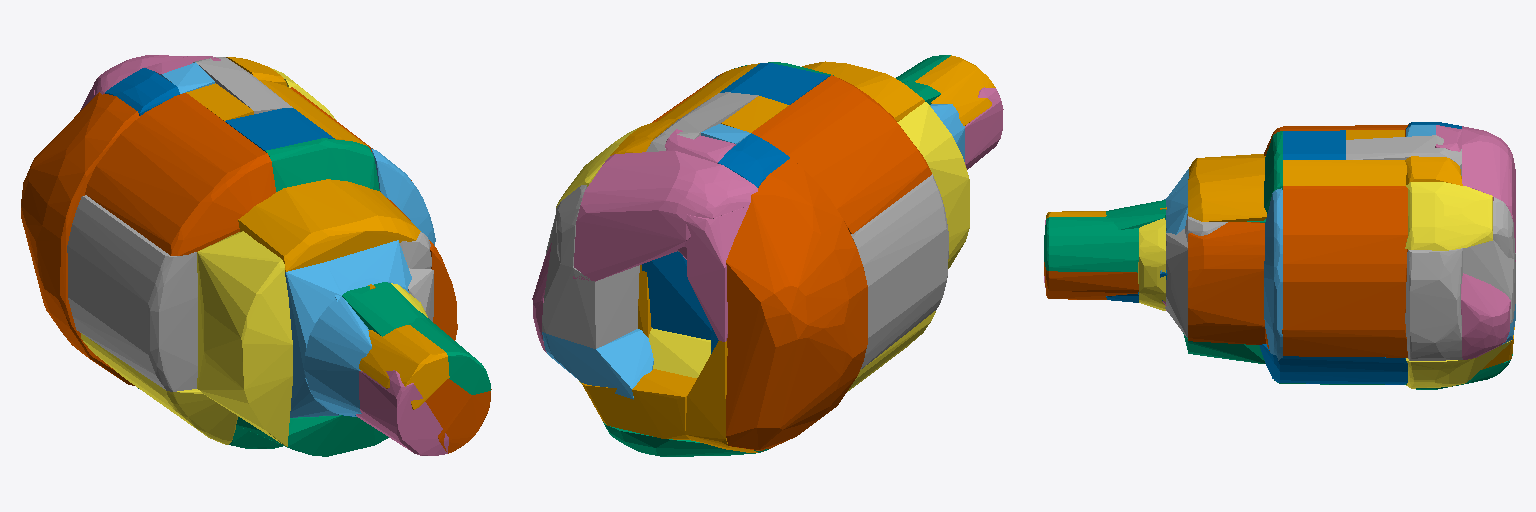
--- Facts derived from the render (not from the file) ---
The picture shows the robot from 3 angles, left to right: view 1: azimuth 30°, elevation 25°; view 2: azimuth 150°, elevation 25°; view 3: azimuth 270°, elevation 25°; orthographic projection.
Model root with 64 links and 63 joints (63 fixed), rooted at link_screw~screw3_convex_piece_0, posed all joints at 0.
Links seen in each view (by area): view 1: link_screw~screw3_convex_piece_61, link_screw~screw3_convex_piece_31, link_screw~screw3_convex_piece_51, link_screw~screw3_convex_piece_45, link_screw~screw3_convex_piece_32, link_screw~screw3_convex_piece_57, link_screw~screw3_convex_piece_54, link_screw~screw3_convex_piece_26, link_screw~screw3_convex_piece_25, link_screw~screw3_convex_piece_48, link_screw~screw3_convex_piece_43, link_screw~screw3_convex_piece_42 (+17 smaller); view 2: link_screw~screw3_convex_piece_45, link_screw~screw3_convex_piece_62, link_screw~screw3_convex_piece_61, link_screw~screw3_convex_piece_31, link_screw~screw3_convex_piece_55, link_screw~screw3_convex_piece_56, link_screw~screw3_convex_piece_51, link_screw~screw3_convex_piece_6, link_screw~screw3_convex_piece_33, link_screw~screw3_convex_piece_60, link_screw~screw3_convex_piece_40, link_screw~screw3_convex_piece_48 (+18 smaller); view 3: link_screw~screw3_convex_piece_21, link_screw~screw3_convex_piece_29, link_screw~screw3_convex_piece_23, link_screw~screw3_convex_piece_19, link_screw~screw3_convex_piece_32, link_screw~screw3_convex_piece_18, link_screw~screw3_convex_piece_28, link_screw~screw3_convex_piece_37, link_screw~screw3_convex_piece_62, link_screw~screw3_convex_piece_22, link_screw~screw3_convex_piece_24, link_screw~screw3_convex_piece_41 (+15 smaller).
Boxes of the visible links, left/top/right/bottom form: link_screw~screw3_convex_piece_61: left=85, top=93, right=275, bottom=255; link_screw~screw3_convex_piece_31: left=67, top=195, right=197, bottom=391; link_screw~screw3_convex_piece_51: left=197, top=231, right=292, bottom=446; link_screw~screw3_convex_piece_45: left=21, top=92, right=139, bottom=385; link_screw~screw3_convex_piece_32: left=238, top=179, right=420, bottom=271; link_screw~screw3_convex_piece_57: left=304, top=296, right=371, bottom=416; link_screw~screw3_convex_piece_54: left=356, top=370, right=448, bottom=455; link_screw~screw3_convex_piece_26: left=265, top=138, right=379, bottom=191; link_screw~screw3_convex_piece_25: left=285, top=262, right=341, bottom=417; link_screw~screw3_convex_piece_48: left=359, top=325, right=449, bottom=409; link_screw~screw3_convex_piece_43: left=81, top=333, right=238, bottom=444; link_screw~screw3_convex_piece_42: left=236, top=415, right=388, bottom=456; link_screw~screw3_convex_piece_45: left=726, top=158, right=867, bottom=451; link_screw~screw3_convex_piece_62: left=573, top=151, right=757, bottom=281; link_screw~screw3_convex_piece_61: left=752, top=75, right=931, bottom=233; link_screw~screw3_convex_piece_31: left=851, top=174, right=948, bottom=369; link_screw~screw3_convex_piece_55: left=542, top=217, right=639, bottom=348; link_screw~screw3_convex_piece_56: left=582, top=369, right=696, bottom=440; link_screw~screw3_convex_piece_51: left=897, top=102, right=969, bottom=268; link_screw~screw3_convex_piece_6: left=686, top=206, right=748, bottom=341; link_screw~screw3_convex_piece_33: left=542, top=329, right=653, bottom=399; link_screw~screw3_convex_piece_60: left=642, top=251, right=711, bottom=339; link_screw~screw3_convex_piece_40: left=685, top=341, right=757, bottom=452; link_screw~screw3_convex_piece_48: left=915, top=55, right=995, bottom=125; link_screw~screw3_convex_piece_21: left=1283, top=186, right=1407, bottom=329; link_screw~screw3_convex_piece_29: left=1188, top=222, right=1265, bottom=344; link_screw~screw3_convex_piece_23: left=1405, top=248, right=1462, bottom=360; link_screw~screw3_convex_piece_19: left=1405, top=182, right=1492, bottom=250; link_screw~screw3_convex_piece_32: left=1188, top=154, right=1266, bottom=221; link_screw~screw3_convex_piece_18: left=1044, top=217, right=1138, bottom=272; link_screw~screw3_convex_piece_28: left=1259, top=344, right=1407, bottom=384; link_screw~screw3_convex_piece_37: left=1265, top=324, right=1407, bottom=357; link_screw~screw3_convex_piece_62: left=1462, top=126, right=1515, bottom=261; link_screw~screw3_convex_piece_22: left=1461, top=273, right=1510, bottom=359; link_screw~screw3_convex_piece_24: left=1283, top=160, right=1406, bottom=185; link_screw~screw3_convex_piece_41: left=1264, top=188, right=1282, bottom=360.
Bounding box of the posed robot: 0.0341 × 0.0612 × 0.0346 m (x, y, z).
Meshes: 64 distinct files referenced, 64 mesh visuals loaded (64 OBJ).

The robot description file, URDF, robot "root":
<robot name="root">
  <link name="link_screw~screw3_convex_piece_0">
    <inertial>
      <origin xyz="0 0 0" rpy="0 0 0"/>
      <mass value="4.80E-04"/>
      <inertia ixx="9.96E-08" ixy="2.38E-09" ixz="8.96E-09" iyy="9.26E-08" iyz="-2.38E-08" izz="9.88E-09"/>
    </inertial>
    <visual>
      <origin xyz="0 0 0" rpy="0 0 0"/>
      <geometry>
        <mesh filename="screw~screw3_convex_piece_0.obj" scale="1.0000E+00 1.0000E+00 1.0000E+00"/>
      </geometry>
      <material name=""/>
    </visual>
    <collision>
      <origin xyz="0 0 0" rpy="0 0 0"/>
      <geometry>
        <mesh filename="screw~screw3_convex_piece_0.obj" scale="1.0000E+00 1.0000E+00 1.0000E+00"/>
      </geometry>
    </collision>
  </link>
  <link name="link_screw~screw3_convex_piece_1">
    <inertial>
      <origin xyz="0 0 0" rpy="0 0 0"/>
      <mass value="1.46E-03"/>
      <inertia ixx="6.79E-08" ixy="-4.08E-08" ixz="-9.70E-09" iyy="1.22E-07" iyz="-4.87E-09" izz="1.10E-07"/>
    </inertial>
    <visual>
      <origin xyz="0 0 0" rpy="0 0 0"/>
      <geometry>
        <mesh filename="screw~screw3_convex_piece_1.obj" scale="1.0000E+00 1.0000E+00 1.0000E+00"/>
      </geometry>
      <material name=""/>
    </visual>
    <collision>
      <origin xyz="0 0 0" rpy="0 0 0"/>
      <geometry>
        <mesh filename="screw~screw3_convex_piece_1.obj" scale="1.0000E+00 1.0000E+00 1.0000E+00"/>
      </geometry>
    </collision>
  </link>
  <joint name="link_screw~screw3_convex_piece_1_joint" type="fixed">
    <origin xyz="0 0 0" rpy="0 0 0"/>
    <parent link="link_screw~screw3_convex_piece_0"/>
    <child link="link_screw~screw3_convex_piece_1"/>
  </joint>
  <link name="link_screw~screw3_convex_piece_2">
    <inertial>
      <origin xyz="0 0 0" rpy="0 0 0"/>
      <mass value="2.32E-03"/>
      <inertia ixx="2.41E-07" ixy="1.24E-07" ixz="-7.33E-08" iyy="1.83E-07" iyz="7.82E-08" izz="3.02E-07"/>
    </inertial>
    <visual>
      <origin xyz="0 0 0" rpy="0 0 0"/>
      <geometry>
        <mesh filename="screw~screw3_convex_piece_2.obj" scale="1.0000E+00 1.0000E+00 1.0000E+00"/>
      </geometry>
      <material name=""/>
    </visual>
    <collision>
      <origin xyz="0 0 0" rpy="0 0 0"/>
      <geometry>
        <mesh filename="screw~screw3_convex_piece_2.obj" scale="1.0000E+00 1.0000E+00 1.0000E+00"/>
      </geometry>
    </collision>
  </link>
  <joint name="link_screw~screw3_convex_piece_2_joint" type="fixed">
    <origin xyz="0 0 0" rpy="0 0 0"/>
    <parent link="link_screw~screw3_convex_piece_1"/>
    <child link="link_screw~screw3_convex_piece_2"/>
  </joint>
  <link name="link_screw~screw3_convex_piece_3">
    <inertial>
      <origin xyz="0 0 0" rpy="0 0 0"/>
      <mass value="2.25E-03"/>
      <inertia ixx="9.09E-08" ixy="-6.30E-09" ixz="3.91E-09" iyy="2.51E-07" iyz="6.45E-10" izz="2.57E-07"/>
    </inertial>
    <visual>
      <origin xyz="0 0 0" rpy="0 0 0"/>
      <geometry>
        <mesh filename="screw~screw3_convex_piece_3.obj" scale="1.0000E+00 1.0000E+00 1.0000E+00"/>
      </geometry>
      <material name=""/>
    </visual>
    <collision>
      <origin xyz="0 0 0" rpy="0 0 0"/>
      <geometry>
        <mesh filename="screw~screw3_convex_piece_3.obj" scale="1.0000E+00 1.0000E+00 1.0000E+00"/>
      </geometry>
    </collision>
  </link>
  <joint name="link_screw~screw3_convex_piece_3_joint" type="fixed">
    <origin xyz="0 0 0" rpy="0 0 0"/>
    <parent link="link_screw~screw3_convex_piece_2"/>
    <child link="link_screw~screw3_convex_piece_3"/>
  </joint>
  <link name="link_screw~screw3_convex_piece_4">
    <inertial>
      <origin xyz="0 0 0" rpy="0 0 0"/>
      <mass value="1.32E-03"/>
      <inertia ixx="2.61E-07" ixy="5.47E-09" ixz="-1.68E-08" iyy="2.40E-07" iyz="7.14E-08" izz="3.89E-08"/>
    </inertial>
    <visual>
      <origin xyz="0 0 0" rpy="0 0 0"/>
      <geometry>
        <mesh filename="screw~screw3_convex_piece_4.obj" scale="1.0000E+00 1.0000E+00 1.0000E+00"/>
      </geometry>
      <material name=""/>
    </visual>
    <collision>
      <origin xyz="0 0 0" rpy="0 0 0"/>
      <geometry>
        <mesh filename="screw~screw3_convex_piece_4.obj" scale="1.0000E+00 1.0000E+00 1.0000E+00"/>
      </geometry>
    </collision>
  </link>
  <joint name="link_screw~screw3_convex_piece_4_joint" type="fixed">
    <origin xyz="0 0 0" rpy="0 0 0"/>
    <parent link="link_screw~screw3_convex_piece_3"/>
    <child link="link_screw~screw3_convex_piece_4"/>
  </joint>
  <link name="link_screw~screw3_convex_piece_5">
    <inertial>
      <origin xyz="0 0 0" rpy="0 0 0"/>
      <mass value="1.28E-03"/>
      <inertia ixx="1.69E-07" ixy="2.48E-08" ixz="-2.32E-08" iyy="7.94E-08" iyz="7.00E-08" izz="1.11E-07"/>
    </inertial>
    <visual>
      <origin xyz="0 0 0" rpy="0 0 0"/>
      <geometry>
        <mesh filename="screw~screw3_convex_piece_5.obj" scale="1.0000E+00 1.0000E+00 1.0000E+00"/>
      </geometry>
      <material name=""/>
    </visual>
    <collision>
      <origin xyz="0 0 0" rpy="0 0 0"/>
      <geometry>
        <mesh filename="screw~screw3_convex_piece_5.obj" scale="1.0000E+00 1.0000E+00 1.0000E+00"/>
      </geometry>
    </collision>
  </link>
  <joint name="link_screw~screw3_convex_piece_5_joint" type="fixed">
    <origin xyz="0 0 0" rpy="0 0 0"/>
    <parent link="link_screw~screw3_convex_piece_4"/>
    <child link="link_screw~screw3_convex_piece_5"/>
  </joint>
  <link name="link_screw~screw3_convex_piece_6">
    <inertial>
      <origin xyz="0 0 0" rpy="0 0 0"/>
      <mass value="9.29E-04"/>
      <inertia ixx="3.83E-07" ixy="1.06E-07" ixz="4.30E-08" iyy="1.02E-07" iyz="-1.31E-07" izz="3.55E-07"/>
    </inertial>
    <visual>
      <origin xyz="0 0 0" rpy="0 0 0"/>
      <geometry>
        <mesh filename="screw~screw3_convex_piece_6.obj" scale="1.0000E+00 1.0000E+00 1.0000E+00"/>
      </geometry>
      <material name=""/>
    </visual>
    <collision>
      <origin xyz="0 0 0" rpy="0 0 0"/>
      <geometry>
        <mesh filename="screw~screw3_convex_piece_6.obj" scale="1.0000E+00 1.0000E+00 1.0000E+00"/>
      </geometry>
    </collision>
  </link>
  <joint name="link_screw~screw3_convex_piece_6_joint" type="fixed">
    <origin xyz="0 0 0" rpy="0 0 0"/>
    <parent link="link_screw~screw3_convex_piece_5"/>
    <child link="link_screw~screw3_convex_piece_6"/>
  </joint>
  <link name="link_screw~screw3_convex_piece_7">
    <inertial>
      <origin xyz="0 0 0" rpy="0 0 0"/>
      <mass value="6.60E-04"/>
      <inertia ixx="4.32E-08" ixy="6.38E-09" ixz="-4.72E-09" iyy="1.26E-08" iyz="9.67E-09" izz="3.71E-08"/>
    </inertial>
    <visual>
      <origin xyz="0 0 0" rpy="0 0 0"/>
      <geometry>
        <mesh filename="screw~screw3_convex_piece_7.obj" scale="1.0000E+00 1.0000E+00 1.0000E+00"/>
      </geometry>
      <material name=""/>
    </visual>
    <collision>
      <origin xyz="0 0 0" rpy="0 0 0"/>
      <geometry>
        <mesh filename="screw~screw3_convex_piece_7.obj" scale="1.0000E+00 1.0000E+00 1.0000E+00"/>
      </geometry>
    </collision>
  </link>
  <joint name="link_screw~screw3_convex_piece_7_joint" type="fixed">
    <origin xyz="0 0 0" rpy="0 0 0"/>
    <parent link="link_screw~screw3_convex_piece_6"/>
    <child link="link_screw~screw3_convex_piece_7"/>
  </joint>
  <link name="link_screw~screw3_convex_piece_8">
    <inertial>
      <origin xyz="0 0 0" rpy="0 0 0"/>
      <mass value="1.54E-03"/>
      <inertia ixx="2.80E-07" ixy="-2.35E-08" ixz="8.76E-09" iyy="3.37E-08" iyz="6.23E-08" izz="2.57E-07"/>
    </inertial>
    <visual>
      <origin xyz="0 0 0" rpy="0 0 0"/>
      <geometry>
        <mesh filename="screw~screw3_convex_piece_8.obj" scale="1.0000E+00 1.0000E+00 1.0000E+00"/>
      </geometry>
      <material name=""/>
    </visual>
    <collision>
      <origin xyz="0 0 0" rpy="0 0 0"/>
      <geometry>
        <mesh filename="screw~screw3_convex_piece_8.obj" scale="1.0000E+00 1.0000E+00 1.0000E+00"/>
      </geometry>
    </collision>
  </link>
  <joint name="link_screw~screw3_convex_piece_8_joint" type="fixed">
    <origin xyz="0 0 0" rpy="0 0 0"/>
    <parent link="link_screw~screw3_convex_piece_7"/>
    <child link="link_screw~screw3_convex_piece_8"/>
  </joint>
  <link name="link_screw~screw3_convex_piece_9">
    <inertial>
      <origin xyz="0 0 0" rpy="0 0 0"/>
      <mass value="2.65E-03"/>
      <inertia ixx="3.70E-07" ixy="1.79E-07" ixz="6.34E-08" iyy="1.86E-07" iyz="-8.54E-08" izz="4.64E-07"/>
    </inertial>
    <visual>
      <origin xyz="0 0 0" rpy="0 0 0"/>
      <geometry>
        <mesh filename="screw~screw3_convex_piece_9.obj" scale="1.0000E+00 1.0000E+00 1.0000E+00"/>
      </geometry>
      <material name=""/>
    </visual>
    <collision>
      <origin xyz="0 0 0" rpy="0 0 0"/>
      <geometry>
        <mesh filename="screw~screw3_convex_piece_9.obj" scale="1.0000E+00 1.0000E+00 1.0000E+00"/>
      </geometry>
    </collision>
  </link>
  <joint name="link_screw~screw3_convex_piece_9_joint" type="fixed">
    <origin xyz="0 0 0" rpy="0 0 0"/>
    <parent link="link_screw~screw3_convex_piece_8"/>
    <child link="link_screw~screw3_convex_piece_9"/>
  </joint>
  <link name="link_screw~screw3_convex_piece_10">
    <inertial>
      <origin xyz="0 0 0" rpy="0 0 0"/>
      <mass value="1.97E-03"/>
      <inertia ixx="5.12E-07" ixy="-1.03E-08" ixz="1.30E-08" iyy="2.84E-07" iyz="2.49E-07" izz="3.28E-07"/>
    </inertial>
    <visual>
      <origin xyz="0 0 0" rpy="0 0 0"/>
      <geometry>
        <mesh filename="screw~screw3_convex_piece_10.obj" scale="1.0000E+00 1.0000E+00 1.0000E+00"/>
      </geometry>
      <material name=""/>
    </visual>
    <collision>
      <origin xyz="0 0 0" rpy="0 0 0"/>
      <geometry>
        <mesh filename="screw~screw3_convex_piece_10.obj" scale="1.0000E+00 1.0000E+00 1.0000E+00"/>
      </geometry>
    </collision>
  </link>
  <joint name="link_screw~screw3_convex_piece_10_joint" type="fixed">
    <origin xyz="0 0 0" rpy="0 0 0"/>
    <parent link="link_screw~screw3_convex_piece_9"/>
    <child link="link_screw~screw3_convex_piece_10"/>
  </joint>
  <link name="link_screw~screw3_convex_piece_11">
    <inertial>
      <origin xyz="0 0 0" rpy="0 0 0"/>
      <mass value="3.14E-03"/>
      <inertia ixx="3.65E-07" ixy="-4.70E-08" ixz="8.01E-08" iyy="2.36E-07" iyz="9.63E-08" izz="2.45E-07"/>
    </inertial>
    <visual>
      <origin xyz="0 0 0" rpy="0 0 0"/>
      <geometry>
        <mesh filename="screw~screw3_convex_piece_11.obj" scale="1.0000E+00 1.0000E+00 1.0000E+00"/>
      </geometry>
      <material name=""/>
    </visual>
    <collision>
      <origin xyz="0 0 0" rpy="0 0 0"/>
      <geometry>
        <mesh filename="screw~screw3_convex_piece_11.obj" scale="1.0000E+00 1.0000E+00 1.0000E+00"/>
      </geometry>
    </collision>
  </link>
  <joint name="link_screw~screw3_convex_piece_11_joint" type="fixed">
    <origin xyz="0 0 0" rpy="0 0 0"/>
    <parent link="link_screw~screw3_convex_piece_10"/>
    <child link="link_screw~screw3_convex_piece_11"/>
  </joint>
  <link name="link_screw~screw3_convex_piece_12">
    <inertial>
      <origin xyz="0 0 0" rpy="0 0 0"/>
      <mass value="5.05E-03"/>
      <inertia ixx="3.67E-07" ixy="-1.09E-07" ixz="-2.01E-08" iyy="2.59E-07" iyz="-1.56E-08" izz="4.71E-07"/>
    </inertial>
    <visual>
      <origin xyz="0 0 0" rpy="0 0 0"/>
      <geometry>
        <mesh filename="screw~screw3_convex_piece_12.obj" scale="1.0000E+00 1.0000E+00 1.0000E+00"/>
      </geometry>
      <material name=""/>
    </visual>
    <collision>
      <origin xyz="0 0 0" rpy="0 0 0"/>
      <geometry>
        <mesh filename="screw~screw3_convex_piece_12.obj" scale="1.0000E+00 1.0000E+00 1.0000E+00"/>
      </geometry>
    </collision>
  </link>
  <joint name="link_screw~screw3_convex_piece_12_joint" type="fixed">
    <origin xyz="0 0 0" rpy="0 0 0"/>
    <parent link="link_screw~screw3_convex_piece_11"/>
    <child link="link_screw~screw3_convex_piece_12"/>
  </joint>
  <link name="link_screw~screw3_convex_piece_13">
    <inertial>
      <origin xyz="0 0 0" rpy="0 0 0"/>
      <mass value="2.34E-03"/>
      <inertia ixx="2.57E-07" ixy="2.54E-10" ixz="7.47E-10" iyy="2.53E-07" iyz="-6.85E-09" izz="9.65E-08"/>
    </inertial>
    <visual>
      <origin xyz="0 0 0" rpy="0 0 0"/>
      <geometry>
        <mesh filename="screw~screw3_convex_piece_13.obj" scale="1.0000E+00 1.0000E+00 1.0000E+00"/>
      </geometry>
      <material name=""/>
    </visual>
    <collision>
      <origin xyz="0 0 0" rpy="0 0 0"/>
      <geometry>
        <mesh filename="screw~screw3_convex_piece_13.obj" scale="1.0000E+00 1.0000E+00 1.0000E+00"/>
      </geometry>
    </collision>
  </link>
  <joint name="link_screw~screw3_convex_piece_13_joint" type="fixed">
    <origin xyz="0 0 0" rpy="0 0 0"/>
    <parent link="link_screw~screw3_convex_piece_12"/>
    <child link="link_screw~screw3_convex_piece_13"/>
  </joint>
  <link name="link_screw~screw3_convex_piece_14">
    <inertial>
      <origin xyz="0 0 0" rpy="0 0 0"/>
      <mass value="2.22E-03"/>
      <inertia ixx="3.66E-07" ixy="5.08E-08" ixz="4.03E-08" iyy="9.96E-08" iyz="-8.82E-08" izz="3.24E-07"/>
    </inertial>
    <visual>
      <origin xyz="0 0 0" rpy="0 0 0"/>
      <geometry>
        <mesh filename="screw~screw3_convex_piece_14.obj" scale="1.0000E+00 1.0000E+00 1.0000E+00"/>
      </geometry>
      <material name=""/>
    </visual>
    <collision>
      <origin xyz="0 0 0" rpy="0 0 0"/>
      <geometry>
        <mesh filename="screw~screw3_convex_piece_14.obj" scale="1.0000E+00 1.0000E+00 1.0000E+00"/>
      </geometry>
    </collision>
  </link>
  <joint name="link_screw~screw3_convex_piece_14_joint" type="fixed">
    <origin xyz="0 0 0" rpy="0 0 0"/>
    <parent link="link_screw~screw3_convex_piece_13"/>
    <child link="link_screw~screw3_convex_piece_14"/>
  </joint>
  <link name="link_screw~screw3_convex_piece_15">
    <inertial>
      <origin xyz="0 0 0" rpy="0 0 0"/>
      <mass value="1.20E-04"/>
      <inertia ixx="5.70E-08" ixy="-2.56E-08" ixz="-9.71E-09" iyy="2.10E-08" iyz="-1.87E-08" izz="6.28E-08"/>
    </inertial>
    <visual>
      <origin xyz="0 0 0" rpy="0 0 0"/>
      <geometry>
        <mesh filename="screw~screw3_convex_piece_15.obj" scale="1.0000E+00 1.0000E+00 1.0000E+00"/>
      </geometry>
      <material name=""/>
    </visual>
    <collision>
      <origin xyz="0 0 0" rpy="0 0 0"/>
      <geometry>
        <mesh filename="screw~screw3_convex_piece_15.obj" scale="1.0000E+00 1.0000E+00 1.0000E+00"/>
      </geometry>
    </collision>
  </link>
  <joint name="link_screw~screw3_convex_piece_15_joint" type="fixed">
    <origin xyz="0 0 0" rpy="0 0 0"/>
    <parent link="link_screw~screw3_convex_piece_14"/>
    <child link="link_screw~screw3_convex_piece_15"/>
  </joint>
  <link name="link_screw~screw3_convex_piece_16">
    <inertial>
      <origin xyz="0 0 0" rpy="0 0 0"/>
      <mass value="2.30E-03"/>
      <inertia ixx="4.57E-07" ixy="-1.84E-07" ixz="-5.27E-08" iyy="2.47E-07" iyz="-8.90E-08" izz="4.37E-07"/>
    </inertial>
    <visual>
      <origin xyz="0 0 0" rpy="0 0 0"/>
      <geometry>
        <mesh filename="screw~screw3_convex_piece_16.obj" scale="1.0000E+00 1.0000E+00 1.0000E+00"/>
      </geometry>
      <material name=""/>
    </visual>
    <collision>
      <origin xyz="0 0 0" rpy="0 0 0"/>
      <geometry>
        <mesh filename="screw~screw3_convex_piece_16.obj" scale="1.0000E+00 1.0000E+00 1.0000E+00"/>
      </geometry>
    </collision>
  </link>
  <joint name="link_screw~screw3_convex_piece_16_joint" type="fixed">
    <origin xyz="0 0 0" rpy="0 0 0"/>
    <parent link="link_screw~screw3_convex_piece_15"/>
    <child link="link_screw~screw3_convex_piece_16"/>
  </joint>
  <link name="link_screw~screw3_convex_piece_17">
    <inertial>
      <origin xyz="0 0 0" rpy="0 0 0"/>
      <mass value="7.86E-04"/>
      <inertia ixx="1.53E-07" ixy="1.23E-08" ixz="1.09E-08" iyy="8.13E-08" iyz="-6.71E-08" izz="7.82E-08"/>
    </inertial>
    <visual>
      <origin xyz="0 0 0" rpy="0 0 0"/>
      <geometry>
        <mesh filename="screw~screw3_convex_piece_17.obj" scale="1.0000E+00 1.0000E+00 1.0000E+00"/>
      </geometry>
      <material name=""/>
    </visual>
    <collision>
      <origin xyz="0 0 0" rpy="0 0 0"/>
      <geometry>
        <mesh filename="screw~screw3_convex_piece_17.obj" scale="1.0000E+00 1.0000E+00 1.0000E+00"/>
      </geometry>
    </collision>
  </link>
  <joint name="link_screw~screw3_convex_piece_17_joint" type="fixed">
    <origin xyz="0 0 0" rpy="0 0 0"/>
    <parent link="link_screw~screw3_convex_piece_16"/>
    <child link="link_screw~screw3_convex_piece_17"/>
  </joint>
  <link name="link_screw~screw3_convex_piece_18">
    <inertial>
      <origin xyz="0 0 0" rpy="0 0 0"/>
      <mass value="6.26E-04"/>
      <inertia ixx="6.94E-07" ixy="6.23E-08" ixz="-4.94E-09" iyy="1.35E-08" iyz="6.10E-08" izz="6.94E-07"/>
    </inertial>
    <visual>
      <origin xyz="0 0 0" rpy="0 0 0"/>
      <geometry>
        <mesh filename="screw~screw3_convex_piece_18.obj" scale="1.0000E+00 1.0000E+00 1.0000E+00"/>
      </geometry>
      <material name=""/>
    </visual>
    <collision>
      <origin xyz="0 0 0" rpy="0 0 0"/>
      <geometry>
        <mesh filename="screw~screw3_convex_piece_18.obj" scale="1.0000E+00 1.0000E+00 1.0000E+00"/>
      </geometry>
    </collision>
  </link>
  <joint name="link_screw~screw3_convex_piece_18_joint" type="fixed">
    <origin xyz="0 0 0" rpy="0 0 0"/>
    <parent link="link_screw~screw3_convex_piece_17"/>
    <child link="link_screw~screw3_convex_piece_18"/>
  </joint>
  <link name="link_screw~screw3_convex_piece_19">
    <inertial>
      <origin xyz="0 0 0" rpy="0 0 0"/>
      <mass value="7.23E-04"/>
      <inertia ixx="2.06E-07" ixy="-1.04E-07" ixz="-8.32E-08" iyy="1.72E-07" iyz="-9.58E-08" izz="2.19E-07"/>
    </inertial>
    <visual>
      <origin xyz="0 0 0" rpy="0 0 0"/>
      <geometry>
        <mesh filename="screw~screw3_convex_piece_19.obj" scale="1.0000E+00 1.0000E+00 1.0000E+00"/>
      </geometry>
      <material name=""/>
    </visual>
    <collision>
      <origin xyz="0 0 0" rpy="0 0 0"/>
      <geometry>
        <mesh filename="screw~screw3_convex_piece_19.obj" scale="1.0000E+00 1.0000E+00 1.0000E+00"/>
      </geometry>
    </collision>
  </link>
  <joint name="link_screw~screw3_convex_piece_19_joint" type="fixed">
    <origin xyz="0 0 0" rpy="0 0 0"/>
    <parent link="link_screw~screw3_convex_piece_18"/>
    <child link="link_screw~screw3_convex_piece_19"/>
  </joint>
  <link name="link_screw~screw3_convex_piece_20">
    <inertial>
      <origin xyz="0 0 0" rpy="0 0 0"/>
      <mass value="2.56E-03"/>
      <inertia ixx="5.28E-07" ixy="1.76E-07" ixz="5.18E-08" iyy="2.56E-07" iyz="-1.07E-07" izz="4.57E-07"/>
    </inertial>
    <visual>
      <origin xyz="0 0 0" rpy="0 0 0"/>
      <geometry>
        <mesh filename="screw~screw3_convex_piece_20.obj" scale="1.0000E+00 1.0000E+00 1.0000E+00"/>
      </geometry>
      <material name=""/>
    </visual>
    <collision>
      <origin xyz="0 0 0" rpy="0 0 0"/>
      <geometry>
        <mesh filename="screw~screw3_convex_piece_20.obj" scale="1.0000E+00 1.0000E+00 1.0000E+00"/>
      </geometry>
    </collision>
  </link>
  <joint name="link_screw~screw3_convex_piece_20_joint" type="fixed">
    <origin xyz="0 0 0" rpy="0 0 0"/>
    <parent link="link_screw~screw3_convex_piece_19"/>
    <child link="link_screw~screw3_convex_piece_20"/>
  </joint>
  <link name="link_screw~screw3_convex_piece_21">
    <inertial>
      <origin xyz="0 0 0" rpy="0 0 0"/>
      <mass value="4.19E-03"/>
      <inertia ixx="2.37E-07" ixy="8.63E-09" ixz="-2.00E-07" iyy="8.29E-07" iyz="1.08E-09" izz="7.72E-07"/>
    </inertial>
    <visual>
      <origin xyz="0 0 0" rpy="0 0 0"/>
      <geometry>
        <mesh filename="screw~screw3_convex_piece_21.obj" scale="1.0000E+00 1.0000E+00 1.0000E+00"/>
      </geometry>
      <material name=""/>
    </visual>
    <collision>
      <origin xyz="0 0 0" rpy="0 0 0"/>
      <geometry>
        <mesh filename="screw~screw3_convex_piece_21.obj" scale="1.0000E+00 1.0000E+00 1.0000E+00"/>
      </geometry>
    </collision>
  </link>
  <joint name="link_screw~screw3_convex_piece_21_joint" type="fixed">
    <origin xyz="0 0 0" rpy="0 0 0"/>
    <parent link="link_screw~screw3_convex_piece_20"/>
    <child link="link_screw~screw3_convex_piece_21"/>
  </joint>
  <link name="link_screw~screw3_convex_piece_22">
    <inertial>
      <origin xyz="0 0 0" rpy="0 0 0"/>
      <mass value="3.16E-04"/>
      <inertia ixx="1.03E-07" ixy="-8.04E-08" ixz="1.01E-08" iyy="7.03E-08" iyz="1.25E-08" izz="1.65E-07"/>
    </inertial>
    <visual>
      <origin xyz="0 0 0" rpy="0 0 0"/>
      <geometry>
        <mesh filename="screw~screw3_convex_piece_22.obj" scale="1.0000E+00 1.0000E+00 1.0000E+00"/>
      </geometry>
      <material name=""/>
    </visual>
    <collision>
      <origin xyz="0 0 0" rpy="0 0 0"/>
      <geometry>
        <mesh filename="screw~screw3_convex_piece_22.obj" scale="1.0000E+00 1.0000E+00 1.0000E+00"/>
      </geometry>
    </collision>
  </link>
  <joint name="link_screw~screw3_convex_piece_22_joint" type="fixed">
    <origin xyz="0 0 0" rpy="0 0 0"/>
    <parent link="link_screw~screw3_convex_piece_21"/>
    <child link="link_screw~screw3_convex_piece_22"/>
  </joint>
  <link name="link_screw~screw3_convex_piece_23">
    <inertial>
      <origin xyz="0 0 0" rpy="0 0 0"/>
      <mass value="2.51E-03"/>
      <inertia ixx="3.93E-07" ixy="-3.67E-07" ixz="3.77E-09" iyy="4.70E-07" iyz="3.18E-09" izz="7.59E-07"/>
    </inertial>
    <visual>
      <origin xyz="0 0 0" rpy="0 0 0"/>
      <geometry>
        <mesh filename="screw~screw3_convex_piece_23.obj" scale="1.0000E+00 1.0000E+00 1.0000E+00"/>
      </geometry>
      <material name=""/>
    </visual>
    <collision>
      <origin xyz="0 0 0" rpy="0 0 0"/>
      <geometry>
        <mesh filename="screw~screw3_convex_piece_23.obj" scale="1.0000E+00 1.0000E+00 1.0000E+00"/>
      </geometry>
    </collision>
  </link>
  <joint name="link_screw~screw3_convex_piece_23_joint" type="fixed">
    <origin xyz="0 0 0" rpy="0 0 0"/>
    <parent link="link_screw~screw3_convex_piece_22"/>
    <child link="link_screw~screw3_convex_piece_23"/>
  </joint>
  <link name="link_screw~screw3_convex_piece_24">
    <inertial>
      <origin xyz="0 0 0" rpy="0 0 0"/>
      <mass value="1.07E-03"/>
      <inertia ixx="1.90E-07" ixy="2.38E-09" ixz="-9.33E-08" iyy="2.22E-07" iyz="4.11E-09" izz="7.77E-08"/>
    </inertial>
    <visual>
      <origin xyz="0 0 0" rpy="0 0 0"/>
      <geometry>
        <mesh filename="screw~screw3_convex_piece_24.obj" scale="1.0000E+00 1.0000E+00 1.0000E+00"/>
      </geometry>
      <material name=""/>
    </visual>
    <collision>
      <origin xyz="0 0 0" rpy="0 0 0"/>
      <geometry>
        <mesh filename="screw~screw3_convex_piece_24.obj" scale="1.0000E+00 1.0000E+00 1.0000E+00"/>
      </geometry>
    </collision>
  </link>
  <joint name="link_screw~screw3_convex_piece_24_joint" type="fixed">
    <origin xyz="0 0 0" rpy="0 0 0"/>
    <parent link="link_screw~screw3_convex_piece_23"/>
    <child link="link_screw~screw3_convex_piece_24"/>
  </joint>
  <link name="link_screw~screw3_convex_piece_25">
    <inertial>
      <origin xyz="0 0 0" rpy="0 0 0"/>
      <mass value="1.67E-03"/>
      <inertia ixx="6.53E-07" ixy="-1.67E-07" ixz="7.75E-09" iyy="8.71E-08" iyz="2.63E-08" izz="6.65E-07"/>
    </inertial>
    <visual>
      <origin xyz="0 0 0" rpy="0 0 0"/>
      <geometry>
        <mesh filename="screw~screw3_convex_piece_25.obj" scale="1.0000E+00 1.0000E+00 1.0000E+00"/>
      </geometry>
      <material name=""/>
    </visual>
    <collision>
      <origin xyz="0 0 0" rpy="0 0 0"/>
      <geometry>
        <mesh filename="screw~screw3_convex_piece_25.obj" scale="1.0000E+00 1.0000E+00 1.0000E+00"/>
      </geometry>
    </collision>
  </link>
  <joint name="link_screw~screw3_convex_piece_25_joint" type="fixed">
    <origin xyz="0 0 0" rpy="0 0 0"/>
    <parent link="link_screw~screw3_convex_piece_24"/>
    <child link="link_screw~screw3_convex_piece_25"/>
  </joint>
  <link name="link_screw~screw3_convex_piece_26">
    <inertial>
      <origin xyz="0 0 0" rpy="0 0 0"/>
      <mass value="4.54E-04"/>
      <inertia ixx="1.11E-07" ixy="1.14E-08" ixz="-1.45E-08" iyy="7.98E-08" iyz="5.25E-08" izz="4.84E-08"/>
    </inertial>
    <visual>
      <origin xyz="0 0 0" rpy="0 0 0"/>
      <geometry>
        <mesh filename="screw~screw3_convex_piece_26.obj" scale="1.0000E+00 1.0000E+00 1.0000E+00"/>
      </geometry>
      <material name=""/>
    </visual>
    <collision>
      <origin xyz="0 0 0" rpy="0 0 0"/>
      <geometry>
        <mesh filename="screw~screw3_convex_piece_26.obj" scale="1.0000E+00 1.0000E+00 1.0000E+00"/>
      </geometry>
    </collision>
  </link>
  <joint name="link_screw~screw3_convex_piece_26_joint" type="fixed">
    <origin xyz="0 0 0" rpy="0 0 0"/>
    <parent link="link_screw~screw3_convex_piece_25"/>
    <child link="link_screw~screw3_convex_piece_26"/>
  </joint>
  <link name="link_screw~screw3_convex_piece_27">
    <inertial>
      <origin xyz="0 0 0" rpy="0 0 0"/>
      <mass value="7.50E-04"/>
      <inertia ixx="2.08E-07" ixy="-1.01E-07" ixz="8.31E-08" iyy="1.72E-07" iyz="9.70E-08" izz="2.13E-07"/>
    </inertial>
    <visual>
      <origin xyz="0 0 0" rpy="0 0 0"/>
      <geometry>
        <mesh filename="screw~screw3_convex_piece_27.obj" scale="1.0000E+00 1.0000E+00 1.0000E+00"/>
      </geometry>
      <material name=""/>
    </visual>
    <collision>
      <origin xyz="0 0 0" rpy="0 0 0"/>
      <geometry>
        <mesh filename="screw~screw3_convex_piece_27.obj" scale="1.0000E+00 1.0000E+00 1.0000E+00"/>
      </geometry>
    </collision>
  </link>
  <joint name="link_screw~screw3_convex_piece_27_joint" type="fixed">
    <origin xyz="0 0 0" rpy="0 0 0"/>
    <parent link="link_screw~screw3_convex_piece_26"/>
    <child link="link_screw~screw3_convex_piece_27"/>
  </joint>
  <link name="link_screw~screw3_convex_piece_28">
    <inertial>
      <origin xyz="0 0 0" rpy="0 0 0"/>
      <mass value="1.57E-03"/>
      <inertia ixx="2.11E-07" ixy="1.67E-08" ixz="1.65E-07" iyy="3.44E-07" iyz="-1.63E-08" izz="2.22E-07"/>
    </inertial>
    <visual>
      <origin xyz="0 0 0" rpy="0 0 0"/>
      <geometry>
        <mesh filename="screw~screw3_convex_piece_28.obj" scale="1.0000E+00 1.0000E+00 1.0000E+00"/>
      </geometry>
      <material name=""/>
    </visual>
    <collision>
      <origin xyz="0 0 0" rpy="0 0 0"/>
      <geometry>
        <mesh filename="screw~screw3_convex_piece_28.obj" scale="1.0000E+00 1.0000E+00 1.0000E+00"/>
      </geometry>
    </collision>
  </link>
  <joint name="link_screw~screw3_convex_piece_28_joint" type="fixed">
    <origin xyz="0 0 0" rpy="0 0 0"/>
    <parent link="link_screw~screw3_convex_piece_27"/>
    <child link="link_screw~screw3_convex_piece_28"/>
  </joint>
  <link name="link_screw~screw3_convex_piece_29">
    <inertial>
      <origin xyz="0 0 0" rpy="0 0 0"/>
      <mass value="1.36E-03"/>
      <inertia ixx="3.38E-07" ixy="2.16E-07" ixz="-4.42E-09" iyy="1.79E-07" iyz="5.85E-09" izz="4.70E-07"/>
    </inertial>
    <visual>
      <origin xyz="0 0 0" rpy="0 0 0"/>
      <geometry>
        <mesh filename="screw~screw3_convex_piece_29.obj" scale="1.0000E+00 1.0000E+00 1.0000E+00"/>
      </geometry>
      <material name=""/>
    </visual>
    <collision>
      <origin xyz="0 0 0" rpy="0 0 0"/>
      <geometry>
        <mesh filename="screw~screw3_convex_piece_29.obj" scale="1.0000E+00 1.0000E+00 1.0000E+00"/>
      </geometry>
    </collision>
  </link>
  <joint name="link_screw~screw3_convex_piece_29_joint" type="fixed">
    <origin xyz="0 0 0" rpy="0 0 0"/>
    <parent link="link_screw~screw3_convex_piece_28"/>
    <child link="link_screw~screw3_convex_piece_29"/>
  </joint>
  <link name="link_screw~screw3_convex_piece_30">
    <inertial>
      <origin xyz="0 0 0" rpy="0 0 0"/>
      <mass value="3.46E-04"/>
      <inertia ixx="8.19E-08" ixy="8.67E-09" ixz="3.47E-09" iyy="1.50E-08" iyz="-2.89E-08" izz="7.01E-08"/>
    </inertial>
    <visual>
      <origin xyz="0 0 0" rpy="0 0 0"/>
      <geometry>
        <mesh filename="screw~screw3_convex_piece_30.obj" scale="1.0000E+00 1.0000E+00 1.0000E+00"/>
      </geometry>
      <material name=""/>
    </visual>
    <collision>
      <origin xyz="0 0 0" rpy="0 0 0"/>
      <geometry>
        <mesh filename="screw~screw3_convex_piece_30.obj" scale="1.0000E+00 1.0000E+00 1.0000E+00"/>
      </geometry>
    </collision>
  </link>
  <joint name="link_screw~screw3_convex_piece_30_joint" type="fixed">
    <origin xyz="0 0 0" rpy="0 0 0"/>
    <parent link="link_screw~screw3_convex_piece_29"/>
    <child link="link_screw~screw3_convex_piece_30"/>
  </joint>
  <link name="link_screw~screw3_convex_piece_31">
    <inertial>
      <origin xyz="0 0 0" rpy="0 0 0"/>
      <mass value="3.64E-03"/>
      <inertia ixx="1.56E-07" ixy="-4.02E-08" ixz="1.89E-08" iyy="7.62E-07" iyz="7.99E-10" izz="7.96E-07"/>
    </inertial>
    <visual>
      <origin xyz="0 0 0" rpy="0 0 0"/>
      <geometry>
        <mesh filename="screw~screw3_convex_piece_31.obj" scale="1.0000E+00 1.0000E+00 1.0000E+00"/>
      </geometry>
      <material name=""/>
    </visual>
    <collision>
      <origin xyz="0 0 0" rpy="0 0 0"/>
      <geometry>
        <mesh filename="screw~screw3_convex_piece_31.obj" scale="1.0000E+00 1.0000E+00 1.0000E+00"/>
      </geometry>
    </collision>
  </link>
  <joint name="link_screw~screw3_convex_piece_31_joint" type="fixed">
    <origin xyz="0 0 0" rpy="0 0 0"/>
    <parent link="link_screw~screw3_convex_piece_30"/>
    <child link="link_screw~screw3_convex_piece_31"/>
  </joint>
  <link name="link_screw~screw3_convex_piece_32">
    <inertial>
      <origin xyz="0 0 0" rpy="0 0 0"/>
      <mass value="1.42E-03"/>
      <inertia ixx="4.89E-07" ixy="5.10E-09" ixz="-3.56E-09" iyy="1.86E-07" iyz="2.24E-07" izz="3.51E-07"/>
    </inertial>
    <visual>
      <origin xyz="0 0 0" rpy="0 0 0"/>
      <geometry>
        <mesh filename="screw~screw3_convex_piece_32.obj" scale="1.0000E+00 1.0000E+00 1.0000E+00"/>
      </geometry>
      <material name=""/>
    </visual>
    <collision>
      <origin xyz="0 0 0" rpy="0 0 0"/>
      <geometry>
        <mesh filename="screw~screw3_convex_piece_32.obj" scale="1.0000E+00 1.0000E+00 1.0000E+00"/>
      </geometry>
    </collision>
  </link>
  <joint name="link_screw~screw3_convex_piece_32_joint" type="fixed">
    <origin xyz="0 0 0" rpy="0 0 0"/>
    <parent link="link_screw~screw3_convex_piece_31"/>
    <child link="link_screw~screw3_convex_piece_32"/>
  </joint>
  <link name="link_screw~screw3_convex_piece_33">
    <inertial>
      <origin xyz="0 0 0" rpy="0 0 0"/>
      <mass value="8.13E-04"/>
      <inertia ixx="3.11E-07" ixy="-1.26E-07" ixz="4.05E-08" iyy="9.46E-08" iyz="9.00E-08" izz="3.44E-07"/>
    </inertial>
    <visual>
      <origin xyz="0 0 0" rpy="0 0 0"/>
      <geometry>
        <mesh filename="screw~screw3_convex_piece_33.obj" scale="1.0000E+00 1.0000E+00 1.0000E+00"/>
      </geometry>
      <material name=""/>
    </visual>
    <collision>
      <origin xyz="0 0 0" rpy="0 0 0"/>
      <geometry>
        <mesh filename="screw~screw3_convex_piece_33.obj" scale="1.0000E+00 1.0000E+00 1.0000E+00"/>
      </geometry>
    </collision>
  </link>
  <joint name="link_screw~screw3_convex_piece_33_joint" type="fixed">
    <origin xyz="0 0 0" rpy="0 0 0"/>
    <parent link="link_screw~screw3_convex_piece_32"/>
    <child link="link_screw~screw3_convex_piece_33"/>
  </joint>
  <link name="link_screw~screw3_convex_piece_34">
    <inertial>
      <origin xyz="0 0 0" rpy="0 0 0"/>
      <mass value="3.82E-03"/>
      <inertia ixx="8.25E-07" ixy="6.78E-10" ixz="4.24E-09" iyy="7.89E-07" iyz="-4.54E-08" izz="1.71E-07"/>
    </inertial>
    <visual>
      <origin xyz="0 0 0" rpy="0 0 0"/>
      <geometry>
        <mesh filename="screw~screw3_convex_piece_34.obj" scale="1.0000E+00 1.0000E+00 1.0000E+00"/>
      </geometry>
      <material name=""/>
    </visual>
    <collision>
      <origin xyz="0 0 0" rpy="0 0 0"/>
      <geometry>
        <mesh filename="screw~screw3_convex_piece_34.obj" scale="1.0000E+00 1.0000E+00 1.0000E+00"/>
      </geometry>
    </collision>
  </link>
  <joint name="link_screw~screw3_convex_piece_34_joint" type="fixed">
    <origin xyz="0 0 0" rpy="0 0 0"/>
    <parent link="link_screw~screw3_convex_piece_33"/>
    <child link="link_screw~screw3_convex_piece_34"/>
  </joint>
  <link name="link_screw~screw3_convex_piece_35">
    <inertial>
      <origin xyz="0 0 0" rpy="0 0 0"/>
      <mass value="1.11E-03"/>
      <inertia ixx="2.06E-07" ixy="-6.18E-09" ixz="3.04E-09" iyy="5.48E-08" iyz="8.15E-08" izz="1.68E-07"/>
    </inertial>
    <visual>
      <origin xyz="0 0 0" rpy="0 0 0"/>
      <geometry>
        <mesh filename="screw~screw3_convex_piece_35.obj" scale="1.0000E+00 1.0000E+00 1.0000E+00"/>
      </geometry>
      <material name=""/>
    </visual>
    <collision>
      <origin xyz="0 0 0" rpy="0 0 0"/>
      <geometry>
        <mesh filename="screw~screw3_convex_piece_35.obj" scale="1.0000E+00 1.0000E+00 1.0000E+00"/>
      </geometry>
    </collision>
  </link>
  <joint name="link_screw~screw3_convex_piece_35_joint" type="fixed">
    <origin xyz="0 0 0" rpy="0 0 0"/>
    <parent link="link_screw~screw3_convex_piece_34"/>
    <child link="link_screw~screw3_convex_piece_35"/>
  </joint>
  <link name="link_screw~screw3_convex_piece_36">
    <inertial>
      <origin xyz="0 0 0" rpy="0 0 0"/>
      <mass value="2.08E-03"/>
      <inertia ixx="4.10E-07" ixy="-3.06E-08" ixz="-1.28E-08" iyy="4.62E-08" iyz="-7.87E-08" izz="3.81E-07"/>
    </inertial>
    <visual>
      <origin xyz="0 0 0" rpy="0 0 0"/>
      <geometry>
        <mesh filename="screw~screw3_convex_piece_36.obj" scale="1.0000E+00 1.0000E+00 1.0000E+00"/>
      </geometry>
      <material name=""/>
    </visual>
    <collision>
      <origin xyz="0 0 0" rpy="0 0 0"/>
      <geometry>
        <mesh filename="screw~screw3_convex_piece_36.obj" scale="1.0000E+00 1.0000E+00 1.0000E+00"/>
      </geometry>
    </collision>
  </link>
  <joint name="link_screw~screw3_convex_piece_36_joint" type="fixed">
    <origin xyz="0 0 0" rpy="0 0 0"/>
    <parent link="link_screw~screw3_convex_piece_35"/>
    <child link="link_screw~screw3_convex_piece_36"/>
  </joint>
  <link name="link_screw~screw3_convex_piece_37">
    <inertial>
      <origin xyz="0 0 0" rpy="0 0 0"/>
      <mass value="1.43E-03"/>
      <inertia ixx="8.27E-08" ixy="2.06E-08" ixz="9.64E-08" iyy="2.81E-07" iyz="-8.96E-09" izz="2.77E-07"/>
    </inertial>
    <visual>
      <origin xyz="0 0 0" rpy="0 0 0"/>
      <geometry>
        <mesh filename="screw~screw3_convex_piece_37.obj" scale="1.0000E+00 1.0000E+00 1.0000E+00"/>
      </geometry>
      <material name=""/>
    </visual>
    <collision>
      <origin xyz="0 0 0" rpy="0 0 0"/>
      <geometry>
        <mesh filename="screw~screw3_convex_piece_37.obj" scale="1.0000E+00 1.0000E+00 1.0000E+00"/>
      </geometry>
    </collision>
  </link>
  <joint name="link_screw~screw3_convex_piece_37_joint" type="fixed">
    <origin xyz="0 0 0" rpy="0 0 0"/>
    <parent link="link_screw~screw3_convex_piece_36"/>
    <child link="link_screw~screw3_convex_piece_37"/>
  </joint>
  <link name="link_screw~screw3_convex_piece_38">
    <inertial>
      <origin xyz="0 0 0" rpy="0 0 0"/>
      <mass value="2.96E-04"/>
      <inertia ixx="6.99E-08" ixy="6.81E-09" ixz="7.11E-10" iyy="2.06E-09" iyz="-5.44E-09" izz="7.02E-08"/>
    </inertial>
    <visual>
      <origin xyz="0 0 0" rpy="0 0 0"/>
      <geometry>
        <mesh filename="screw~screw3_convex_piece_38.obj" scale="1.0000E+00 1.0000E+00 1.0000E+00"/>
      </geometry>
      <material name=""/>
    </visual>
    <collision>
      <origin xyz="0 0 0" rpy="0 0 0"/>
      <geometry>
        <mesh filename="screw~screw3_convex_piece_38.obj" scale="1.0000E+00 1.0000E+00 1.0000E+00"/>
      </geometry>
    </collision>
  </link>
  <joint name="link_screw~screw3_convex_piece_38_joint" type="fixed">
    <origin xyz="0 0 0" rpy="0 0 0"/>
    <parent link="link_screw~screw3_convex_piece_37"/>
    <child link="link_screw~screw3_convex_piece_38"/>
  </joint>
  <link name="link_screw~screw3_convex_piece_39">
    <inertial>
      <origin xyz="0 0 0" rpy="0 0 0"/>
      <mass value="2.61E-03"/>
      <inertia ixx="5.27E-07" ixy="-5.35E-08" ixz="-7.47E-08" iyy="3.51E-07" iyz="-2.11E-07" izz="2.23E-07"/>
    </inertial>
    <visual>
      <origin xyz="0 0 0" rpy="0 0 0"/>
      <geometry>
        <mesh filename="screw~screw3_convex_piece_39.obj" scale="1.0000E+00 1.0000E+00 1.0000E+00"/>
      </geometry>
      <material name=""/>
    </visual>
    <collision>
      <origin xyz="0 0 0" rpy="0 0 0"/>
      <geometry>
        <mesh filename="screw~screw3_convex_piece_39.obj" scale="1.0000E+00 1.0000E+00 1.0000E+00"/>
      </geometry>
    </collision>
  </link>
  <joint name="link_screw~screw3_convex_piece_39_joint" type="fixed">
    <origin xyz="0 0 0" rpy="0 0 0"/>
    <parent link="link_screw~screw3_convex_piece_38"/>
    <child link="link_screw~screw3_convex_piece_39"/>
  </joint>
  <link name="link_screw~screw3_convex_piece_40">
    <inertial>
      <origin xyz="0 0 0" rpy="0 0 0"/>
      <mass value="1.01E-03"/>
      <inertia ixx="4.09E-07" ixy="1.13E-07" ixz="-4.47E-08" iyy="1.09E-07" iyz="1.36E-07" izz="3.79E-07"/>
    </inertial>
    <visual>
      <origin xyz="0 0 0" rpy="0 0 0"/>
      <geometry>
        <mesh filename="screw~screw3_convex_piece_40.obj" scale="1.0000E+00 1.0000E+00 1.0000E+00"/>
      </geometry>
      <material name=""/>
    </visual>
    <collision>
      <origin xyz="0 0 0" rpy="0 0 0"/>
      <geometry>
        <mesh filename="screw~screw3_convex_piece_40.obj" scale="1.0000E+00 1.0000E+00 1.0000E+00"/>
      </geometry>
    </collision>
  </link>
  <joint name="link_screw~screw3_convex_piece_40_joint" type="fixed">
    <origin xyz="0 0 0" rpy="0 0 0"/>
    <parent link="link_screw~screw3_convex_piece_39"/>
    <child link="link_screw~screw3_convex_piece_40"/>
  </joint>
  <link name="link_screw~screw3_convex_piece_41">
    <inertial>
      <origin xyz="0 0 0" rpy="0 0 0"/>
      <mass value="5.88E-04"/>
      <inertia ixx="6.74E-08" ixy="6.74E-08" ixz="-1.50E-08" iyy="1.09E-07" iyz="1.26E-08" izz="1.43E-07"/>
    </inertial>
    <visual>
      <origin xyz="0 0 0" rpy="0 0 0"/>
      <geometry>
        <mesh filename="screw~screw3_convex_piece_41.obj" scale="1.0000E+00 1.0000E+00 1.0000E+00"/>
      </geometry>
      <material name=""/>
    </visual>
    <collision>
      <origin xyz="0 0 0" rpy="0 0 0"/>
      <geometry>
        <mesh filename="screw~screw3_convex_piece_41.obj" scale="1.0000E+00 1.0000E+00 1.0000E+00"/>
      </geometry>
    </collision>
  </link>
  <joint name="link_screw~screw3_convex_piece_41_joint" type="fixed">
    <origin xyz="0 0 0" rpy="0 0 0"/>
    <parent link="link_screw~screw3_convex_piece_40"/>
    <child link="link_screw~screw3_convex_piece_41"/>
  </joint>
  <link name="link_screw~screw3_convex_piece_42">
    <inertial>
      <origin xyz="0 0 0" rpy="0 0 0"/>
      <mass value="2.65E-03"/>
      <inertia ixx="8.67E-07" ixy="1.88E-08" ixz="1.10E-08" iyy="3.12E-07" iyz="-3.80E-07" izz="6.69E-07"/>
    </inertial>
    <visual>
      <origin xyz="0 0 0" rpy="0 0 0"/>
      <geometry>
        <mesh filename="screw~screw3_convex_piece_42.obj" scale="1.0000E+00 1.0000E+00 1.0000E+00"/>
      </geometry>
      <material name=""/>
    </visual>
    <collision>
      <origin xyz="0 0 0" rpy="0 0 0"/>
      <geometry>
        <mesh filename="screw~screw3_convex_piece_42.obj" scale="1.0000E+00 1.0000E+00 1.0000E+00"/>
      </geometry>
    </collision>
  </link>
  <joint name="link_screw~screw3_convex_piece_42_joint" type="fixed">
    <origin xyz="0 0 0" rpy="0 0 0"/>
    <parent link="link_screw~screw3_convex_piece_41"/>
    <child link="link_screw~screw3_convex_piece_42"/>
  </joint>
  <link name="link_screw~screw3_convex_piece_43">
    <inertial>
      <origin xyz="0 0 0" rpy="0 0 0"/>
      <mass value="1.81E-03"/>
      <inertia ixx="2.42E-07" ixy="-2.25E-08" ixz="-1.87E-07" iyy="3.93E-07" iyz="-2.12E-08" izz="2.60E-07"/>
    </inertial>
    <visual>
      <origin xyz="0 0 0" rpy="0 0 0"/>
      <geometry>
        <mesh filename="screw~screw3_convex_piece_43.obj" scale="1.0000E+00 1.0000E+00 1.0000E+00"/>
      </geometry>
      <material name=""/>
    </visual>
    <collision>
      <origin xyz="0 0 0" rpy="0 0 0"/>
      <geometry>
        <mesh filename="screw~screw3_convex_piece_43.obj" scale="1.0000E+00 1.0000E+00 1.0000E+00"/>
      </geometry>
    </collision>
  </link>
  <joint name="link_screw~screw3_convex_piece_43_joint" type="fixed">
    <origin xyz="0 0 0" rpy="0 0 0"/>
    <parent link="link_screw~screw3_convex_piece_42"/>
    <child link="link_screw~screw3_convex_piece_43"/>
  </joint>
  <link name="link_screw~screw3_convex_piece_44">
    <inertial>
      <origin xyz="0 0 0" rpy="0 0 0"/>
      <mass value="3.59E-04"/>
      <inertia ixx="3.06E-07" ixy="-2.56E-09" ixz="-1.64E-10" iyy="7.02E-09" iyz="-3.76E-08" izz="3.02E-07"/>
    </inertial>
    <visual>
      <origin xyz="0 0 0" rpy="0 0 0"/>
      <geometry>
        <mesh filename="screw~screw3_convex_piece_44.obj" scale="1.0000E+00 1.0000E+00 1.0000E+00"/>
      </geometry>
      <material name=""/>
    </visual>
    <collision>
      <origin xyz="0 0 0" rpy="0 0 0"/>
      <geometry>
        <mesh filename="screw~screw3_convex_piece_44.obj" scale="1.0000E+00 1.0000E+00 1.0000E+00"/>
      </geometry>
    </collision>
  </link>
  <joint name="link_screw~screw3_convex_piece_44_joint" type="fixed">
    <origin xyz="0 0 0" rpy="0 0 0"/>
    <parent link="link_screw~screw3_convex_piece_43"/>
    <child link="link_screw~screw3_convex_piece_44"/>
  </joint>
  <link name="link_screw~screw3_convex_piece_45">
    <inertial>
      <origin xyz="0 0 0" rpy="0 0 0"/>
      <mass value="6.53E-03"/>
      <inertia ixx="1.65E-06" ixy="1.05E-06" ixz="1.56E-09" iyy="1.20E-06" iyz="4.95E-09" izz="2.27E-06"/>
    </inertial>
    <visual>
      <origin xyz="0 0 0" rpy="0 0 0"/>
      <geometry>
        <mesh filename="screw~screw3_convex_piece_45.obj" scale="1.0000E+00 1.0000E+00 1.0000E+00"/>
      </geometry>
      <material name=""/>
    </visual>
    <collision>
      <origin xyz="0 0 0" rpy="0 0 0"/>
      <geometry>
        <mesh filename="screw~screw3_convex_piece_45.obj" scale="1.0000E+00 1.0000E+00 1.0000E+00"/>
      </geometry>
    </collision>
  </link>
  <joint name="link_screw~screw3_convex_piece_45_joint" type="fixed">
    <origin xyz="0 0 0" rpy="0 0 0"/>
    <parent link="link_screw~screw3_convex_piece_44"/>
    <child link="link_screw~screw3_convex_piece_45"/>
  </joint>
  <link name="link_screw~screw3_convex_piece_46">
    <inertial>
      <origin xyz="0 0 0" rpy="0 0 0"/>
      <mass value="5.35E-04"/>
      <inertia ixx="1.96E-07" ixy="2.69E-09" ixz="2.19E-09" iyy="1.02E-07" iyz="-9.62E-08" izz="9.76E-08"/>
    </inertial>
    <visual>
      <origin xyz="0 0 0" rpy="0 0 0"/>
      <geometry>
        <mesh filename="screw~screw3_convex_piece_46.obj" scale="1.0000E+00 1.0000E+00 1.0000E+00"/>
      </geometry>
      <material name=""/>
    </visual>
    <collision>
      <origin xyz="0 0 0" rpy="0 0 0"/>
      <geometry>
        <mesh filename="screw~screw3_convex_piece_46.obj" scale="1.0000E+00 1.0000E+00 1.0000E+00"/>
      </geometry>
    </collision>
  </link>
  <joint name="link_screw~screw3_convex_piece_46_joint" type="fixed">
    <origin xyz="0 0 0" rpy="0 0 0"/>
    <parent link="link_screw~screw3_convex_piece_45"/>
    <child link="link_screw~screw3_convex_piece_46"/>
  </joint>
  <link name="link_screw~screw3_convex_piece_47">
    <inertial>
      <origin xyz="0 0 0" rpy="0 0 0"/>
      <mass value="5.12E-04"/>
      <inertia ixx="2.34E-07" ixy="7.47E-08" ixz="2.97E-09" iyy="3.33E-08" iyz="-8.29E-09" izz="2.52E-07"/>
    </inertial>
    <visual>
      <origin xyz="0 0 0" rpy="0 0 0"/>
      <geometry>
        <mesh filename="screw~screw3_convex_piece_47.obj" scale="1.0000E+00 1.0000E+00 1.0000E+00"/>
      </geometry>
      <material name=""/>
    </visual>
    <collision>
      <origin xyz="0 0 0" rpy="0 0 0"/>
      <geometry>
        <mesh filename="screw~screw3_convex_piece_47.obj" scale="1.0000E+00 1.0000E+00 1.0000E+00"/>
      </geometry>
    </collision>
  </link>
  <joint name="link_screw~screw3_convex_piece_47_joint" type="fixed">
    <origin xyz="0 0 0" rpy="0 0 0"/>
    <parent link="link_screw~screw3_convex_piece_46"/>
    <child link="link_screw~screw3_convex_piece_47"/>
  </joint>
  <link name="link_screw~screw3_convex_piece_48">
    <inertial>
      <origin xyz="0 0 0" rpy="0 0 0"/>
      <mass value="4.87E-04"/>
      <inertia ixx="5.88E-07" ixy="-3.80E-08" ixz="3.23E-09" iyy="9.52E-09" iyz="5.53E-08" izz="5.86E-07"/>
    </inertial>
    <visual>
      <origin xyz="0 0 0" rpy="0 0 0"/>
      <geometry>
        <mesh filename="screw~screw3_convex_piece_48.obj" scale="1.0000E+00 1.0000E+00 1.0000E+00"/>
      </geometry>
      <material name=""/>
    </visual>
    <collision>
      <origin xyz="0 0 0" rpy="0 0 0"/>
      <geometry>
        <mesh filename="screw~screw3_convex_piece_48.obj" scale="1.0000E+00 1.0000E+00 1.0000E+00"/>
      </geometry>
    </collision>
  </link>
  <joint name="link_screw~screw3_convex_piece_48_joint" type="fixed">
    <origin xyz="0 0 0" rpy="0 0 0"/>
    <parent link="link_screw~screw3_convex_piece_47"/>
    <child link="link_screw~screw3_convex_piece_48"/>
  </joint>
  <link name="link_screw~screw3_convex_piece_49">
    <inertial>
      <origin xyz="0 0 0" rpy="0 0 0"/>
      <mass value="7.57E-04"/>
      <inertia ixx="3.66E-07" ixy="2.79E-08" ixz="-5.44E-09" iyy="3.15E-08" iyz="8.39E-08" izz="3.48E-07"/>
    </inertial>
    <visual>
      <origin xyz="0 0 0" rpy="0 0 0"/>
      <geometry>
        <mesh filename="screw~screw3_convex_piece_49.obj" scale="1.0000E+00 1.0000E+00 1.0000E+00"/>
      </geometry>
      <material name=""/>
    </visual>
    <collision>
      <origin xyz="0 0 0" rpy="0 0 0"/>
      <geometry>
        <mesh filename="screw~screw3_convex_piece_49.obj" scale="1.0000E+00 1.0000E+00 1.0000E+00"/>
      </geometry>
    </collision>
  </link>
  <joint name="link_screw~screw3_convex_piece_49_joint" type="fixed">
    <origin xyz="0 0 0" rpy="0 0 0"/>
    <parent link="link_screw~screw3_convex_piece_48"/>
    <child link="link_screw~screw3_convex_piece_49"/>
  </joint>
  <link name="link_screw~screw3_convex_piece_50">
    <inertial>
      <origin xyz="0 0 0" rpy="0 0 0"/>
      <mass value="5.68E-04"/>
      <inertia ixx="4.31E-07" ixy="4.02E-09" ixz="-4.37E-10" iyy="1.20E-08" iyz="6.27E-08" izz="4.22E-07"/>
    </inertial>
    <visual>
      <origin xyz="0 0 0" rpy="0 0 0"/>
      <geometry>
        <mesh filename="screw~screw3_convex_piece_50.obj" scale="1.0000E+00 1.0000E+00 1.0000E+00"/>
      </geometry>
      <material name=""/>
    </visual>
    <collision>
      <origin xyz="0 0 0" rpy="0 0 0"/>
      <geometry>
        <mesh filename="screw~screw3_convex_piece_50.obj" scale="1.0000E+00 1.0000E+00 1.0000E+00"/>
      </geometry>
    </collision>
  </link>
  <joint name="link_screw~screw3_convex_piece_50_joint" type="fixed">
    <origin xyz="0 0 0" rpy="0 0 0"/>
    <parent link="link_screw~screw3_convex_piece_49"/>
    <child link="link_screw~screw3_convex_piece_50"/>
  </joint>
  <link name="link_screw~screw3_convex_piece_51">
    <inertial>
      <origin xyz="0 0 0" rpy="0 0 0"/>
      <mass value="2.77E-03"/>
      <inertia ixx="6.92E-07" ixy="-3.91E-07" ixz="4.10E-09" iyy="3.30E-07" iyz="3.73E-09" izz="8.90E-07"/>
    </inertial>
    <visual>
      <origin xyz="0 0 0" rpy="0 0 0"/>
      <geometry>
        <mesh filename="screw~screw3_convex_piece_51.obj" scale="1.0000E+00 1.0000E+00 1.0000E+00"/>
      </geometry>
      <material name=""/>
    </visual>
    <collision>
      <origin xyz="0 0 0" rpy="0 0 0"/>
      <geometry>
        <mesh filename="screw~screw3_convex_piece_51.obj" scale="1.0000E+00 1.0000E+00 1.0000E+00"/>
      </geometry>
    </collision>
  </link>
  <joint name="link_screw~screw3_convex_piece_51_joint" type="fixed">
    <origin xyz="0 0 0" rpy="0 0 0"/>
    <parent link="link_screw~screw3_convex_piece_50"/>
    <child link="link_screw~screw3_convex_piece_51"/>
  </joint>
  <link name="link_screw~screw3_convex_piece_52">
    <inertial>
      <origin xyz="0 0 0" rpy="0 0 0"/>
      <mass value="1.92E-03"/>
      <inertia ixx="3.03E-07" ixy="8.56E-08" ixz="-4.86E-09" iyy="5.03E-08" iyz="5.85E-09" izz="3.34E-07"/>
    </inertial>
    <visual>
      <origin xyz="0 0 0" rpy="0 0 0"/>
      <geometry>
        <mesh filename="screw~screw3_convex_piece_52.obj" scale="1.0000E+00 1.0000E+00 1.0000E+00"/>
      </geometry>
      <material name=""/>
    </visual>
    <collision>
      <origin xyz="0 0 0" rpy="0 0 0"/>
      <geometry>
        <mesh filename="screw~screw3_convex_piece_52.obj" scale="1.0000E+00 1.0000E+00 1.0000E+00"/>
      </geometry>
    </collision>
  </link>
  <joint name="link_screw~screw3_convex_piece_52_joint" type="fixed">
    <origin xyz="0 0 0" rpy="0 0 0"/>
    <parent link="link_screw~screw3_convex_piece_51"/>
    <child link="link_screw~screw3_convex_piece_52"/>
  </joint>
  <link name="link_screw~screw3_convex_piece_53">
    <inertial>
      <origin xyz="0 0 0" rpy="0 0 0"/>
      <mass value="8.10E-04"/>
      <inertia ixx="9.20E-07" ixy="7.51E-08" ixz="4.15E-09" iyy="1.45E-08" iyz="-6.24E-08" izz="9.22E-07"/>
    </inertial>
    <visual>
      <origin xyz="0 0 0" rpy="0 0 0"/>
      <geometry>
        <mesh filename="screw~screw3_convex_piece_53.obj" scale="1.0000E+00 1.0000E+00 1.0000E+00"/>
      </geometry>
      <material name=""/>
    </visual>
    <collision>
      <origin xyz="0 0 0" rpy="0 0 0"/>
      <geometry>
        <mesh filename="screw~screw3_convex_piece_53.obj" scale="1.0000E+00 1.0000E+00 1.0000E+00"/>
      </geometry>
    </collision>
  </link>
  <joint name="link_screw~screw3_convex_piece_53_joint" type="fixed">
    <origin xyz="0 0 0" rpy="0 0 0"/>
    <parent link="link_screw~screw3_convex_piece_52"/>
    <child link="link_screw~screw3_convex_piece_53"/>
  </joint>
  <link name="link_screw~screw3_convex_piece_54">
    <inertial>
      <origin xyz="0 0 0" rpy="0 0 0"/>
      <mass value="9.35E-04"/>
      <inertia ixx="1.10E-06" ixy="-8.98E-08" ixz="-3.26E-09" iyy="1.67E-08" iyz="-5.66E-08" izz="1.10E-06"/>
    </inertial>
    <visual>
      <origin xyz="0 0 0" rpy="0 0 0"/>
      <geometry>
        <mesh filename="screw~screw3_convex_piece_54.obj" scale="1.0000E+00 1.0000E+00 1.0000E+00"/>
      </geometry>
      <material name=""/>
    </visual>
    <collision>
      <origin xyz="0 0 0" rpy="0 0 0"/>
      <geometry>
        <mesh filename="screw~screw3_convex_piece_54.obj" scale="1.0000E+00 1.0000E+00 1.0000E+00"/>
      </geometry>
    </collision>
  </link>
  <joint name="link_screw~screw3_convex_piece_54_joint" type="fixed">
    <origin xyz="0 0 0" rpy="0 0 0"/>
    <parent link="link_screw~screw3_convex_piece_53"/>
    <child link="link_screw~screw3_convex_piece_54"/>
  </joint>
  <link name="link_screw~screw3_convex_piece_55">
    <inertial>
      <origin xyz="0 0 0" rpy="0 0 0"/>
      <mass value="1.57E-03"/>
      <inertia ixx="5.46E-07" ixy="-2.85E-07" ixz="-2.79E-08" iyy="1.84E-07" iyz="-4.60E-08" izz="6.90E-07"/>
    </inertial>
    <visual>
      <origin xyz="0 0 0" rpy="0 0 0"/>
      <geometry>
        <mesh filename="screw~screw3_convex_piece_55.obj" scale="1.0000E+00 1.0000E+00 1.0000E+00"/>
      </geometry>
      <material name=""/>
    </visual>
    <collision>
      <origin xyz="0 0 0" rpy="0 0 0"/>
      <geometry>
        <mesh filename="screw~screw3_convex_piece_55.obj" scale="1.0000E+00 1.0000E+00 1.0000E+00"/>
      </geometry>
    </collision>
  </link>
  <joint name="link_screw~screw3_convex_piece_55_joint" type="fixed">
    <origin xyz="0 0 0" rpy="0 0 0"/>
    <parent link="link_screw~screw3_convex_piece_54"/>
    <child link="link_screw~screw3_convex_piece_55"/>
  </joint>
  <link name="link_screw~screw3_convex_piece_56">
    <inertial>
      <origin xyz="0 0 0" rpy="0 0 0"/>
      <mass value="1.21E-03"/>
      <inertia ixx="5.47E-07" ixy="-4.53E-08" ixz="2.48E-08" iyy="1.42E-07" iyz="2.23E-07" izz="4.44E-07"/>
    </inertial>
    <visual>
      <origin xyz="0 0 0" rpy="0 0 0"/>
      <geometry>
        <mesh filename="screw~screw3_convex_piece_56.obj" scale="1.0000E+00 1.0000E+00 1.0000E+00"/>
      </geometry>
      <material name=""/>
    </visual>
    <collision>
      <origin xyz="0 0 0" rpy="0 0 0"/>
      <geometry>
        <mesh filename="screw~screw3_convex_piece_56.obj" scale="1.0000E+00 1.0000E+00 1.0000E+00"/>
      </geometry>
    </collision>
  </link>
  <joint name="link_screw~screw3_convex_piece_56_joint" type="fixed">
    <origin xyz="0 0 0" rpy="0 0 0"/>
    <parent link="link_screw~screw3_convex_piece_55"/>
    <child link="link_screw~screw3_convex_piece_56"/>
  </joint>
  <link name="link_screw~screw3_convex_piece_57">
    <inertial>
      <origin xyz="0 0 0" rpy="0 0 0"/>
      <mass value="8.57E-04"/>
      <inertia ixx="6.28E-07" ixy="-9.04E-08" ixz="9.59E-10" iyy="2.08E-08" iyz="9.13E-09" izz="6.36E-07"/>
    </inertial>
    <visual>
      <origin xyz="0 0 0" rpy="0 0 0"/>
      <geometry>
        <mesh filename="screw~screw3_convex_piece_57.obj" scale="1.0000E+00 1.0000E+00 1.0000E+00"/>
      </geometry>
      <material name=""/>
    </visual>
    <collision>
      <origin xyz="0 0 0" rpy="0 0 0"/>
      <geometry>
        <mesh filename="screw~screw3_convex_piece_57.obj" scale="1.0000E+00 1.0000E+00 1.0000E+00"/>
      </geometry>
    </collision>
  </link>
  <joint name="link_screw~screw3_convex_piece_57_joint" type="fixed">
    <origin xyz="0 0 0" rpy="0 0 0"/>
    <parent link="link_screw~screw3_convex_piece_56"/>
    <child link="link_screw~screw3_convex_piece_57"/>
  </joint>
  <link name="link_screw~screw3_convex_piece_58">
    <inertial>
      <origin xyz="0 0 0" rpy="0 0 0"/>
      <mass value="2.28E-03"/>
      <inertia ixx="8.81E-07" ixy="-9.21E-09" ixz="5.52E-09" iyy="4.95E-07" iyz="4.23E-07" izz="4.69E-07"/>
    </inertial>
    <visual>
      <origin xyz="0 0 0" rpy="0 0 0"/>
      <geometry>
        <mesh filename="screw~screw3_convex_piece_58.obj" scale="1.0000E+00 1.0000E+00 1.0000E+00"/>
      </geometry>
      <material name=""/>
    </visual>
    <collision>
      <origin xyz="0 0 0" rpy="0 0 0"/>
      <geometry>
        <mesh filename="screw~screw3_convex_piece_58.obj" scale="1.0000E+00 1.0000E+00 1.0000E+00"/>
      </geometry>
    </collision>
  </link>
  <joint name="link_screw~screw3_convex_piece_58_joint" type="fixed">
    <origin xyz="0 0 0" rpy="0 0 0"/>
    <parent link="link_screw~screw3_convex_piece_57"/>
    <child link="link_screw~screw3_convex_piece_58"/>
  </joint>
  <link name="link_screw~screw3_convex_piece_59">
    <inertial>
      <origin xyz="0 0 0" rpy="0 0 0"/>
      <mass value="5.97E-04"/>
      <inertia ixx="3.82E-07" ixy="4.84E-08" ixz="3.73E-10" iyy="1.43E-08" iyz="-1.17E-08" izz="3.83E-07"/>
    </inertial>
    <visual>
      <origin xyz="0 0 0" rpy="0 0 0"/>
      <geometry>
        <mesh filename="screw~screw3_convex_piece_59.obj" scale="1.0000E+00 1.0000E+00 1.0000E+00"/>
      </geometry>
      <material name=""/>
    </visual>
    <collision>
      <origin xyz="0 0 0" rpy="0 0 0"/>
      <geometry>
        <mesh filename="screw~screw3_convex_piece_59.obj" scale="1.0000E+00 1.0000E+00 1.0000E+00"/>
      </geometry>
    </collision>
  </link>
  <joint name="link_screw~screw3_convex_piece_59_joint" type="fixed">
    <origin xyz="0 0 0" rpy="0 0 0"/>
    <parent link="link_screw~screw3_convex_piece_58"/>
    <child link="link_screw~screw3_convex_piece_59"/>
  </joint>
  <link name="link_screw~screw3_convex_piece_60">
    <inertial>
      <origin xyz="0 0 0" rpy="0 0 0"/>
      <mass value="2.54E-03"/>
      <inertia ixx="2.71E-07" ixy="-2.29E-08" ixz="-2.73E-09" iyy="3.75E-08" iyz="-1.22E-08" izz="2.71E-07"/>
    </inertial>
    <visual>
      <origin xyz="0 0 0" rpy="0 0 0"/>
      <geometry>
        <mesh filename="screw~screw3_convex_piece_60.obj" scale="1.0000E+00 1.0000E+00 1.0000E+00"/>
      </geometry>
      <material name=""/>
    </visual>
    <collision>
      <origin xyz="0 0 0" rpy="0 0 0"/>
      <geometry>
        <mesh filename="screw~screw3_convex_piece_60.obj" scale="1.0000E+00 1.0000E+00 1.0000E+00"/>
      </geometry>
    </collision>
  </link>
  <joint name="link_screw~screw3_convex_piece_60_joint" type="fixed">
    <origin xyz="0 0 0" rpy="0 0 0"/>
    <parent link="link_screw~screw3_convex_piece_59"/>
    <child link="link_screw~screw3_convex_piece_60"/>
  </joint>
  <link name="link_screw~screw3_convex_piece_61">
    <inertial>
      <origin xyz="0 0 0" rpy="0 0 0"/>
      <mass value="3.05E-03"/>
      <inertia ixx="5.10E-07" ixy="-2.81E-08" ixz="2.67E-07" iyy="6.37E-07" iyz="4.31E-08" izz="2.97E-07"/>
    </inertial>
    <visual>
      <origin xyz="0 0 0" rpy="0 0 0"/>
      <geometry>
        <mesh filename="screw~screw3_convex_piece_61.obj" scale="1.0000E+00 1.0000E+00 1.0000E+00"/>
      </geometry>
      <material name=""/>
    </visual>
    <collision>
      <origin xyz="0 0 0" rpy="0 0 0"/>
      <geometry>
        <mesh filename="screw~screw3_convex_piece_61.obj" scale="1.0000E+00 1.0000E+00 1.0000E+00"/>
      </geometry>
    </collision>
  </link>
  <joint name="link_screw~screw3_convex_piece_61_joint" type="fixed">
    <origin xyz="0 0 0" rpy="0 0 0"/>
    <parent link="link_screw~screw3_convex_piece_60"/>
    <child link="link_screw~screw3_convex_piece_61"/>
  </joint>
  <link name="link_screw~screw3_convex_piece_62">
    <inertial>
      <origin xyz="0 0 0" rpy="0 0 0"/>
      <mass value="2.47E-03"/>
      <inertia ixx="1.10E-06" ixy="-1.09E-07" ixz="-4.38E-08" iyy="3.42E-07" iyz="-4.57E-07" izz="8.77E-07"/>
    </inertial>
    <visual>
      <origin xyz="0 0 0" rpy="0 0 0"/>
      <geometry>
        <mesh filename="screw~screw3_convex_piece_62.obj" scale="1.0000E+00 1.0000E+00 1.0000E+00"/>
      </geometry>
      <material name=""/>
    </visual>
    <collision>
      <origin xyz="0 0 0" rpy="0 0 0"/>
      <geometry>
        <mesh filename="screw~screw3_convex_piece_62.obj" scale="1.0000E+00 1.0000E+00 1.0000E+00"/>
      </geometry>
    </collision>
  </link>
  <joint name="link_screw~screw3_convex_piece_62_joint" type="fixed">
    <origin xyz="0 0 0" rpy="0 0 0"/>
    <parent link="link_screw~screw3_convex_piece_61"/>
    <child link="link_screw~screw3_convex_piece_62"/>
  </joint>
  <link name="link_screw~screw3_convex_piece_63">
    <inertial>
      <origin xyz="0 0 0" rpy="0 0 0"/>
      <mass value="1.42E-03"/>
      <inertia ixx="4.99E-07" ixy="1.05E-07" ixz="-2.87E-08" iyy="9.52E-08" iyz="1.40E-07" izz="4.89E-07"/>
    </inertial>
    <visual>
      <origin xyz="0 0 0" rpy="0 0 0"/>
      <geometry>
        <mesh filename="screw~screw3_convex_piece_63.obj" scale="1.0000E+00 1.0000E+00 1.0000E+00"/>
      </geometry>
      <material name=""/>
    </visual>
    <collision>
      <origin xyz="0 0 0" rpy="0 0 0"/>
      <geometry>
        <mesh filename="screw~screw3_convex_piece_63.obj" scale="1.0000E+00 1.0000E+00 1.0000E+00"/>
      </geometry>
    </collision>
  </link>
  <joint name="link_screw~screw3_convex_piece_63_joint" type="fixed">
    <origin xyz="0 0 0" rpy="0 0 0"/>
    <parent link="link_screw~screw3_convex_piece_62"/>
    <child link="link_screw~screw3_convex_piece_63"/>
  </joint>
</robot>
